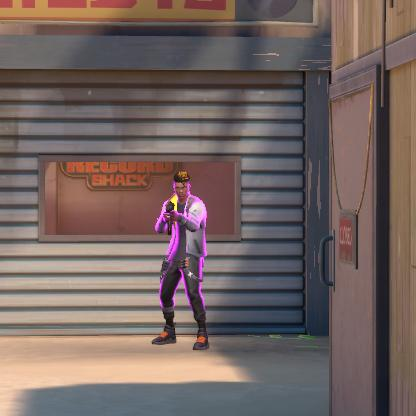enemyBody: (164, 198, 212, 271)
enemyHead: (174, 174, 195, 194)
